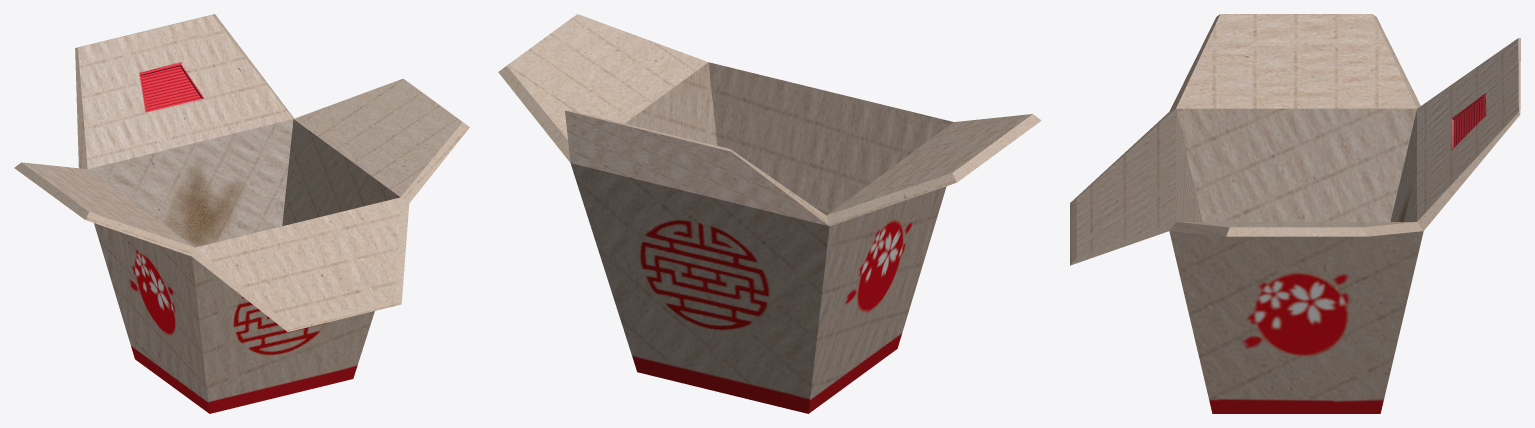
The model's file is japfood.fbx.
3 views of the same model, side by side, from view 1: azimuth 30°, elevation 25°; view 2: azimuth 150°, elevation 25°; view 3: azimuth 270°, elevation 25° (orthographic). The views are drawn at different scales.
Parts seen in each view (by area): view 1: RICEBOX; view 2: RICEBOX; view 3: RICEBOX.
Part boxes in pixels (x1,y1,x2,y2): RICEBOX: (14, 14, 469, 413); RICEBOX: (498, 14, 1041, 413); RICEBOX: (1070, 14, 1520, 413).
Size of the model in its own units: 444 by 290 by 396.
Materials: 1 (1 with a texture image).
